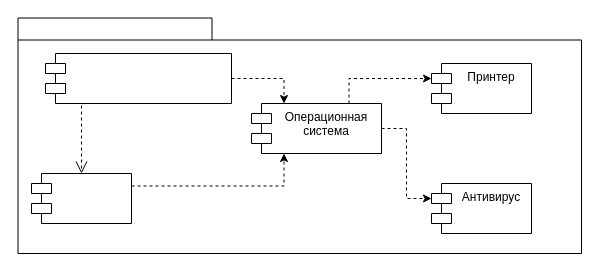
Some shapes in this 599 by 271 pixel diagram are drawn without their labels. Each missing label, with the box of its shape:
Автоматизированное рабочее место: (44, 52, 232, 104)
База данных: (30, 172, 132, 224)
